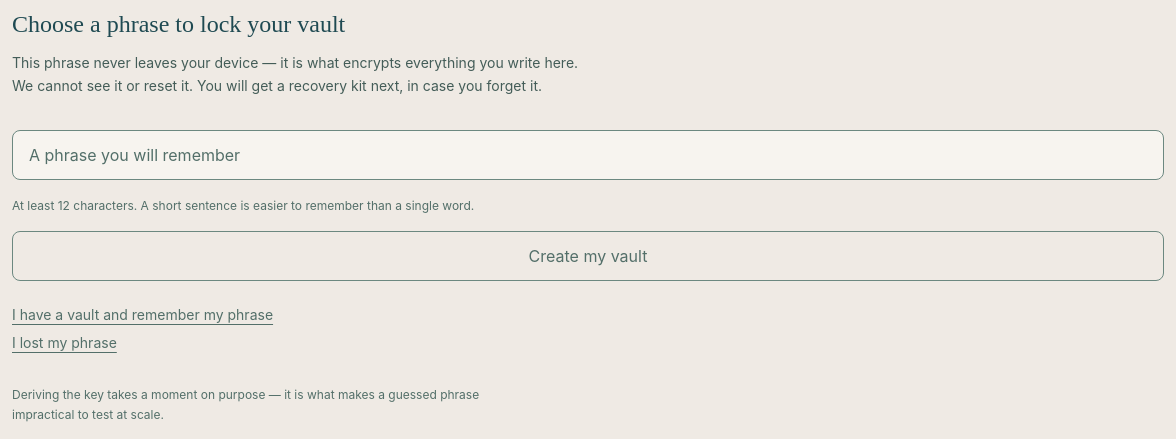
Test case: the length requirement › stops explaining once the phrase is long enough
Step 1. Type "a long enough phrase" into the password field with placeholder "A phrase you will remember" → {"x": 588, "y": 154}, box [12,130,1164,180]
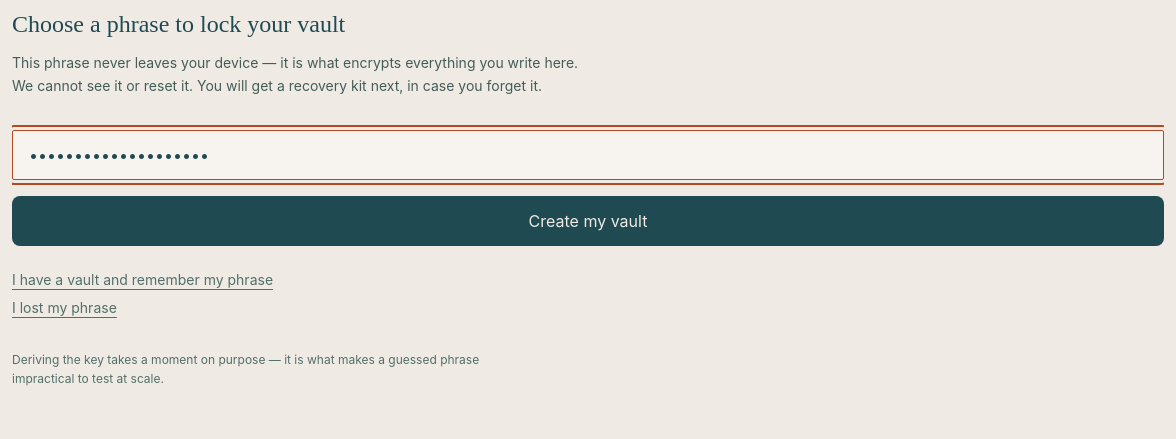
Check: the text "At least 12 characters" is gone
